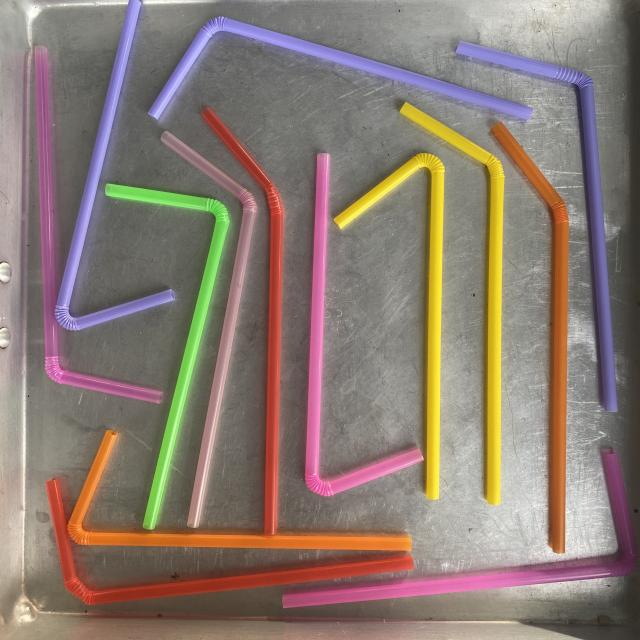Single-Use-Plastic: (456, 41, 618, 411), (282, 451, 638, 608), (45, 479, 414, 605), (34, 46, 161, 402), (105, 184, 229, 529), (400, 102, 504, 504), (68, 430, 411, 551), (305, 154, 422, 496), (149, 16, 532, 120), (55, 0, 175, 330), (161, 131, 256, 528), (335, 154, 444, 499), (201, 108, 284, 534), (491, 122, 569, 554)
